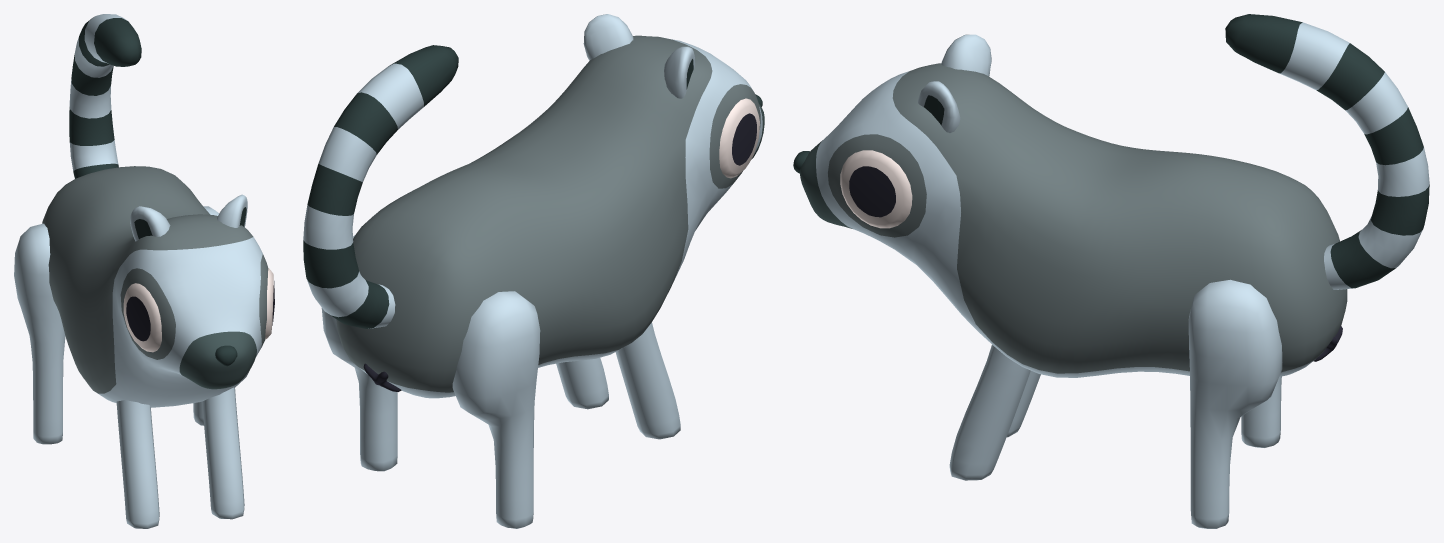
The model's file is Lemur.glb.
3 views of the same model, side by side, from view 1: azimuth 30°, elevation 25°; view 2: azimuth 150°, elevation 25°; view 3: azimuth 270°, elevation 25° (orthographic). The views are drawn at different scales.
Parts seen in each view (by area): view 1: Lemur; view 2: Lemur; view 3: Lemur.
Boxes of the visible parts, x1,y1,x2,y2 form: Lemur: (14, 14, 274, 528); Lemur: (303, 14, 764, 528); Lemur: (793, 14, 1429, 528).
Size of the model in its own units: 1.14 by 1.89 by 2.34.
Materials: 1 (1 with a texture image).
